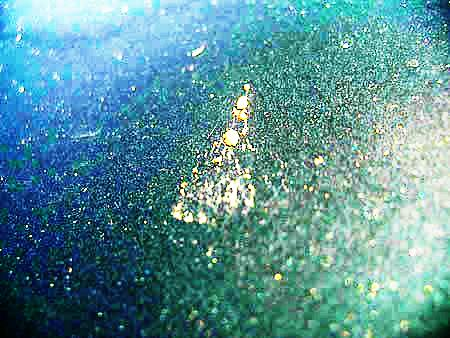Bird Poop: (172, 84, 255, 223)
